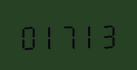one: (38, 20, 57, 50), (78, 19, 97, 49)
seven: (58, 20, 77, 49)
three: (98, 19, 117, 49)
zero: (18, 20, 37, 50)
